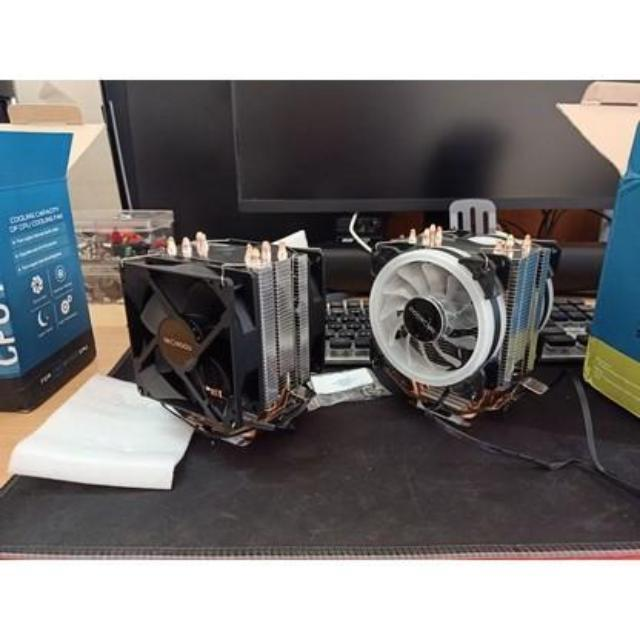CPU_Fan: (118, 234, 328, 456), (364, 222, 558, 424)
